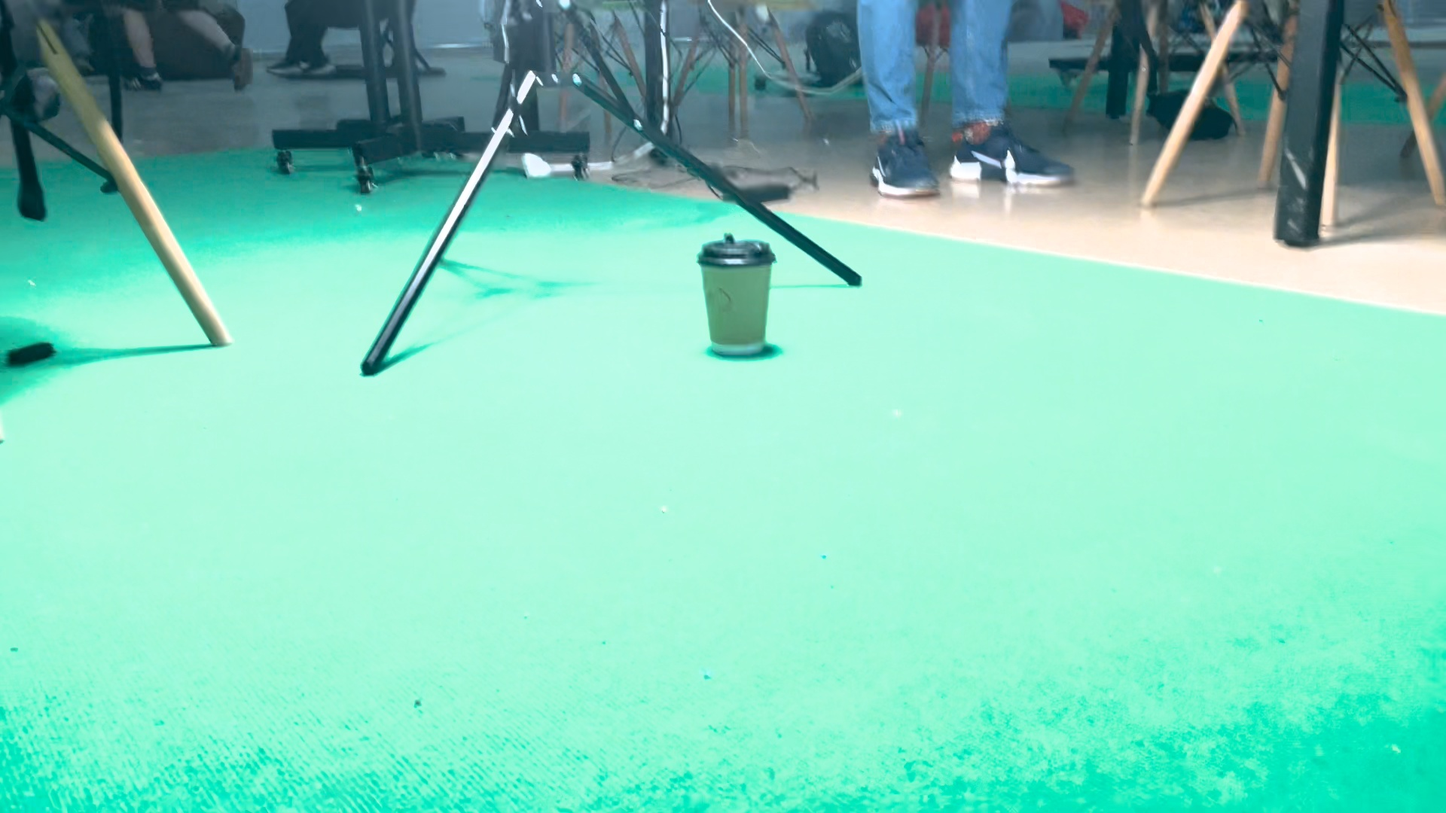cup: (686, 444, 799, 602)
